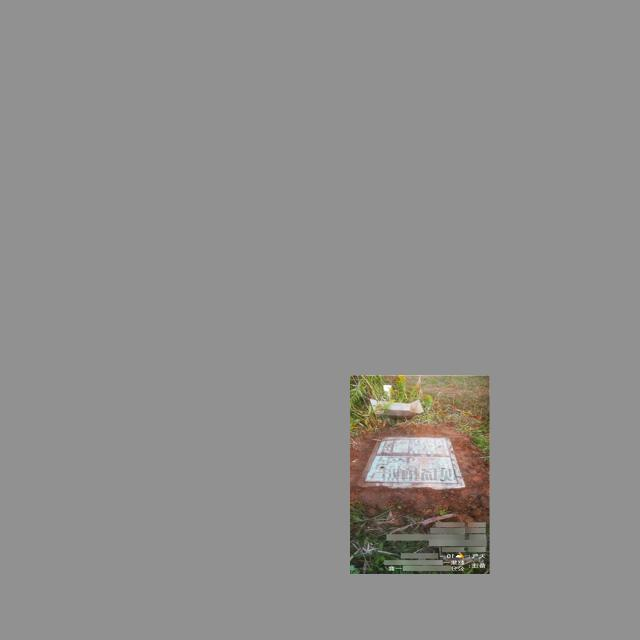good: (364, 434, 464, 488)
